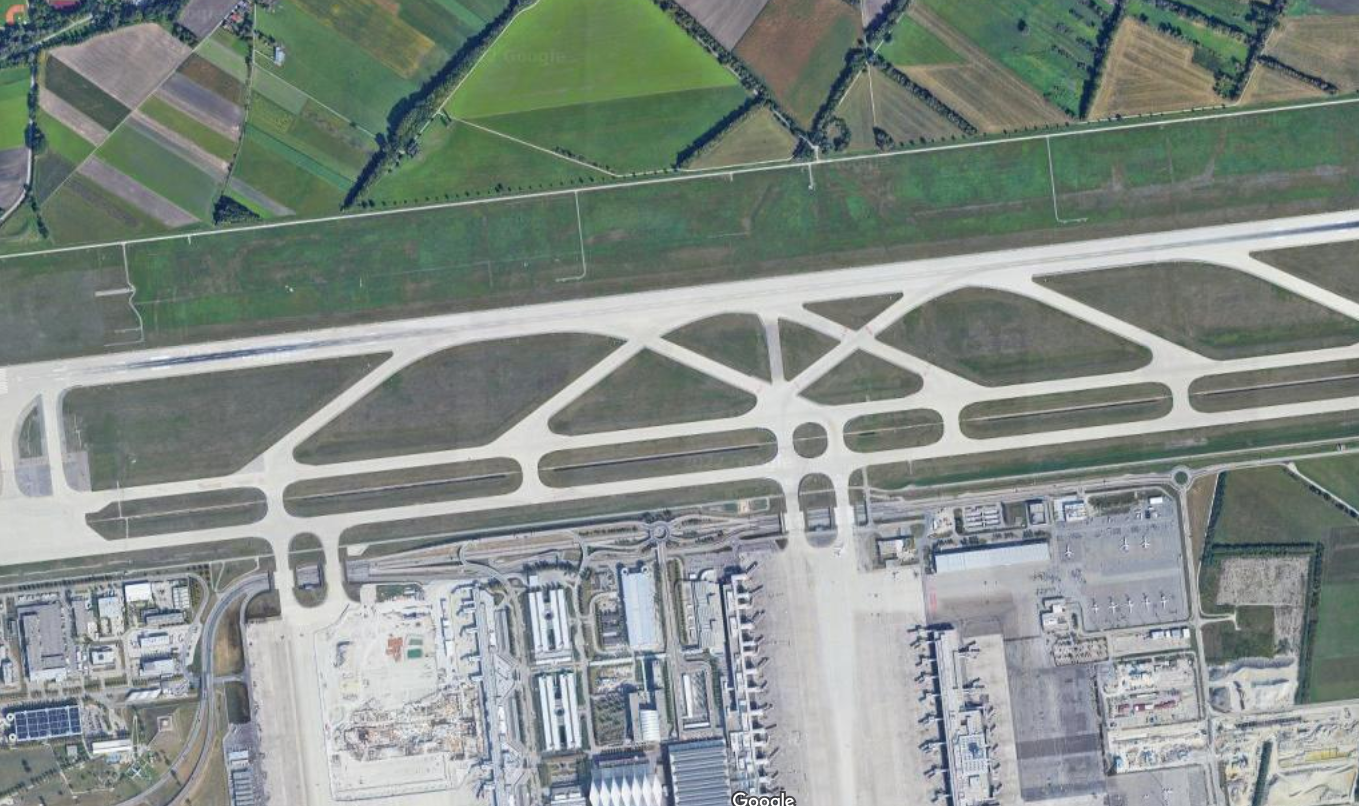plane: (832, 543, 847, 558), (1063, 545, 1074, 561), (1119, 537, 1130, 552), (1141, 597, 1152, 610), (1108, 601, 1118, 615), (1125, 600, 1134, 614), (1141, 535, 1150, 549), (1160, 595, 1168, 609)
